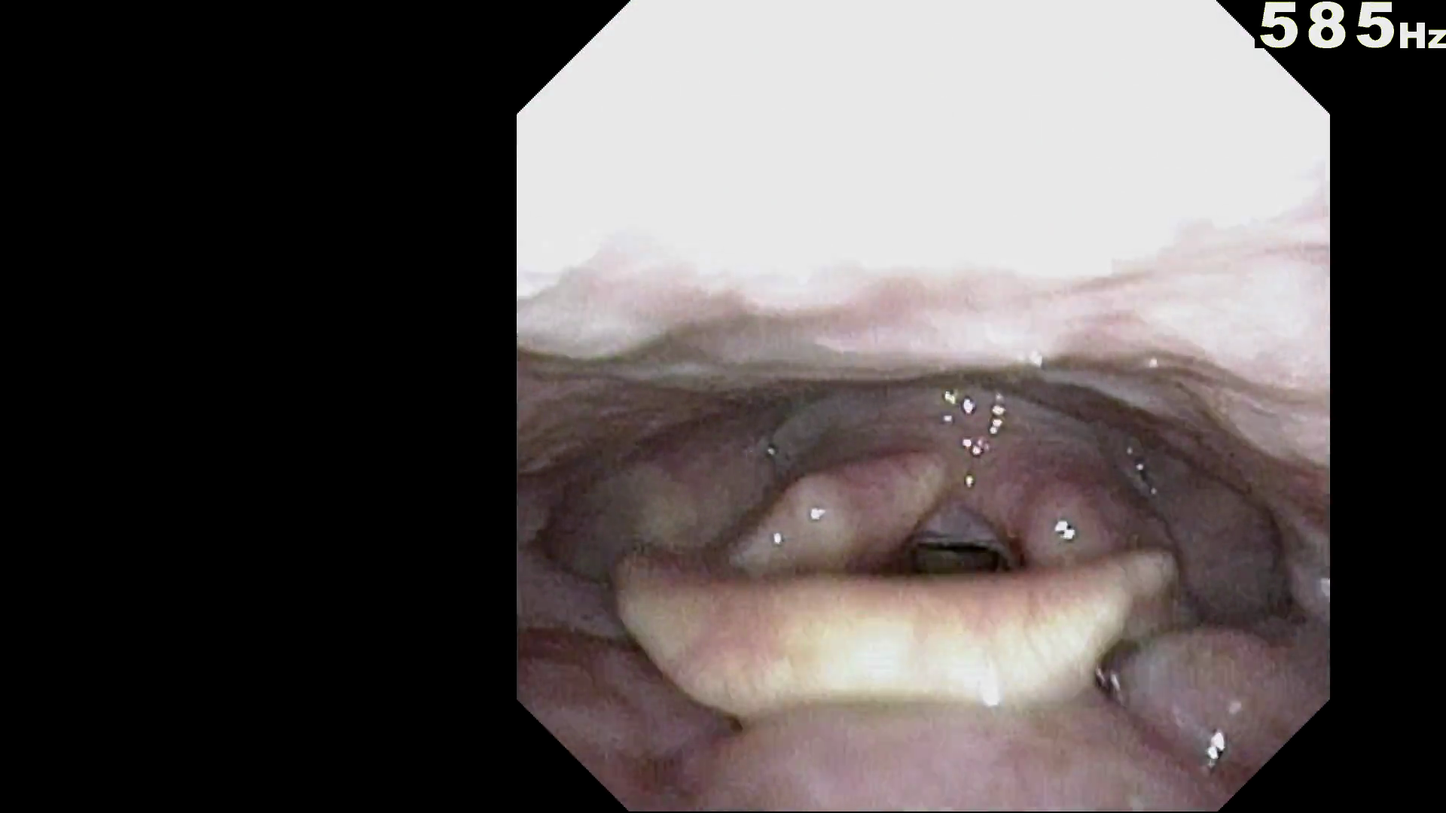epiglottis: (651, 607, 1192, 746)
trachea: (899, 538, 1028, 645)
